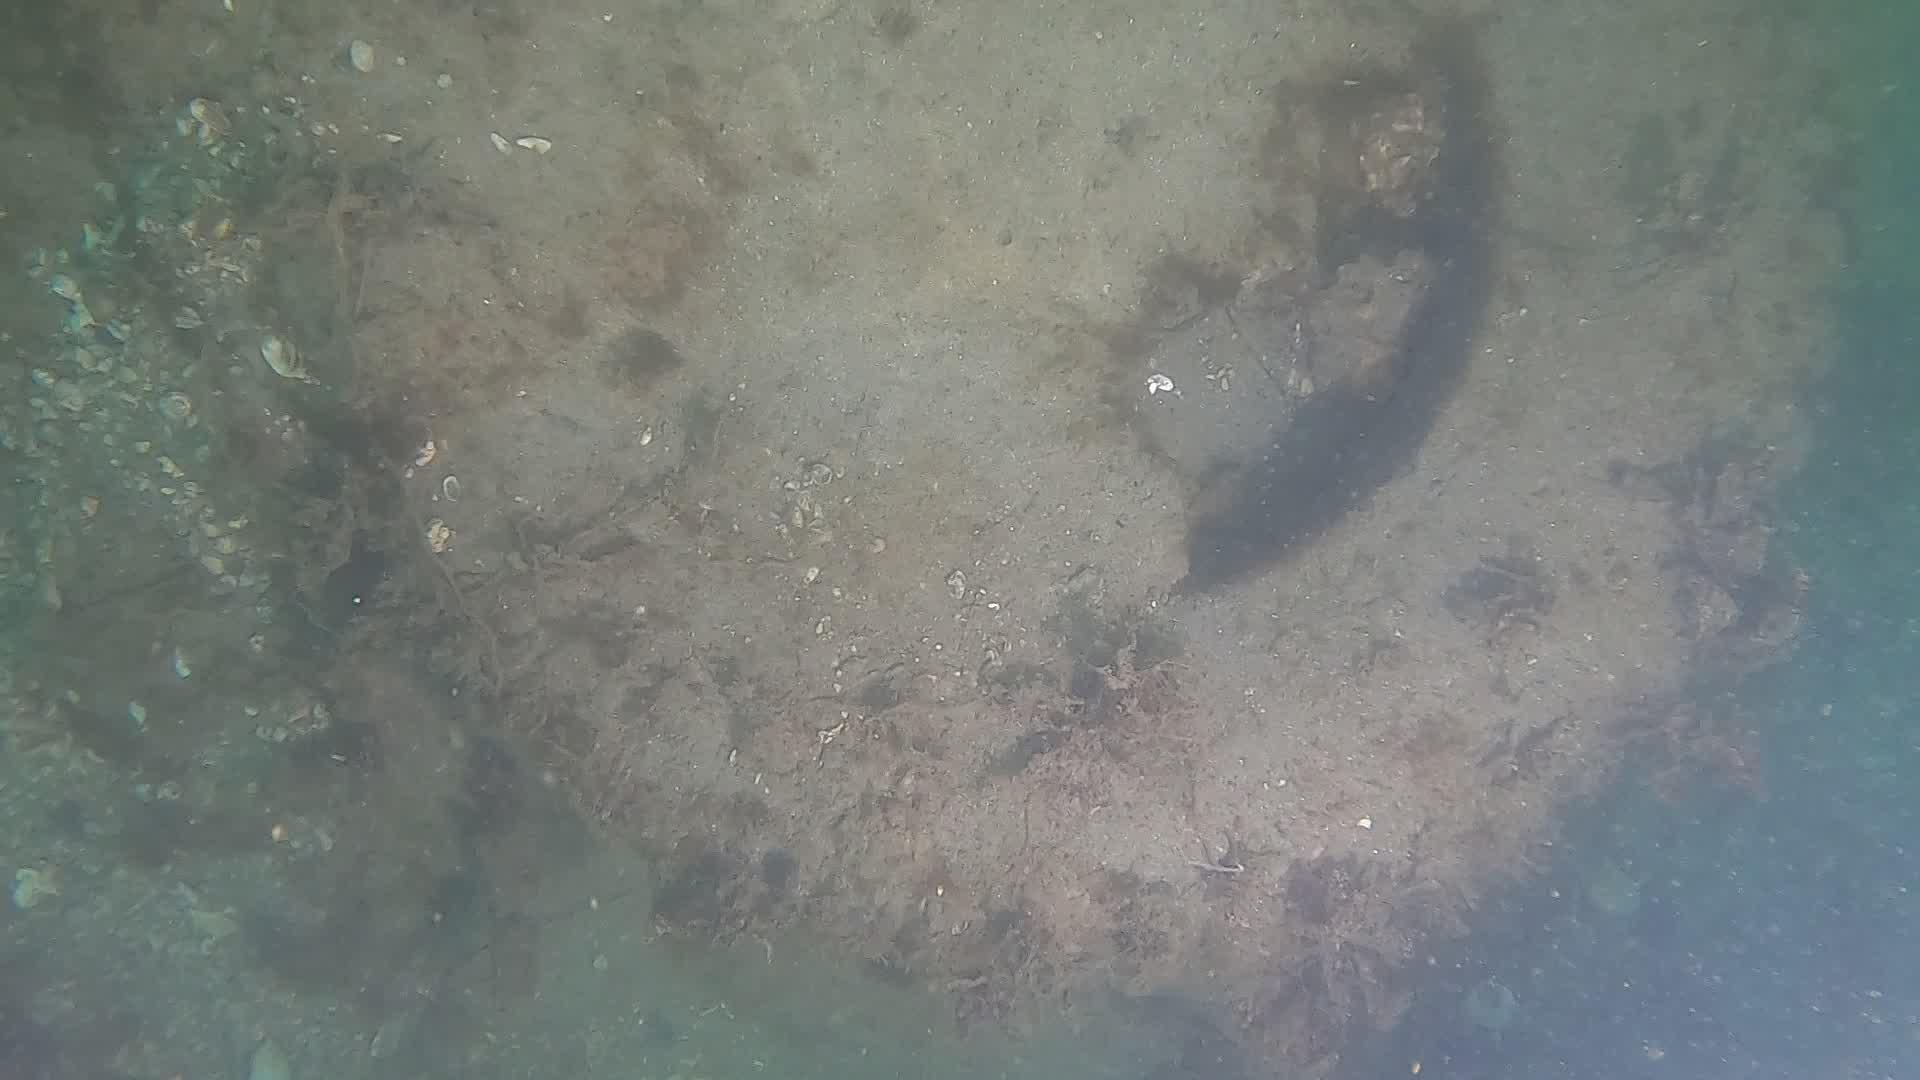tire: (522, 0, 1833, 1001)
